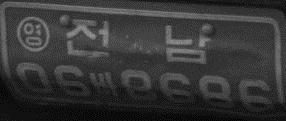0: (15, 61, 52, 95)
6: (159, 70, 195, 106), (239, 78, 275, 114), (53, 66, 88, 99)
8: (198, 74, 234, 110), (120, 68, 157, 102)
바: (89, 71, 119, 99)
영: (15, 15, 50, 52)
전남_D: (64, 16, 210, 65)
